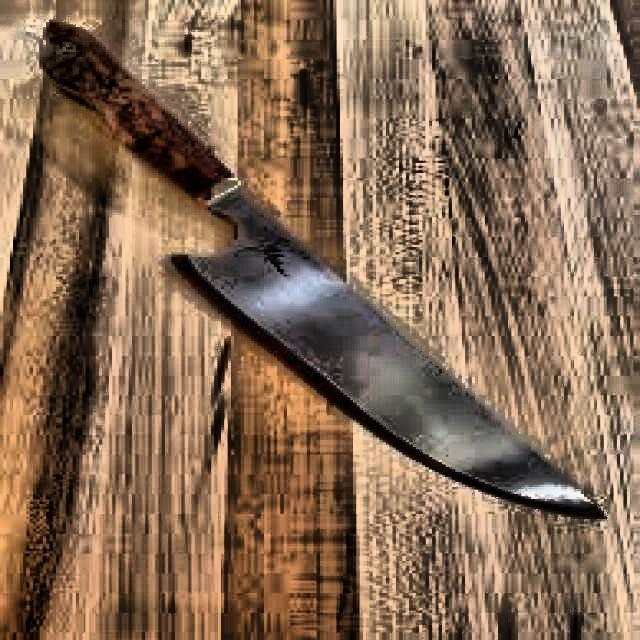knife: (36, 17, 612, 537)
